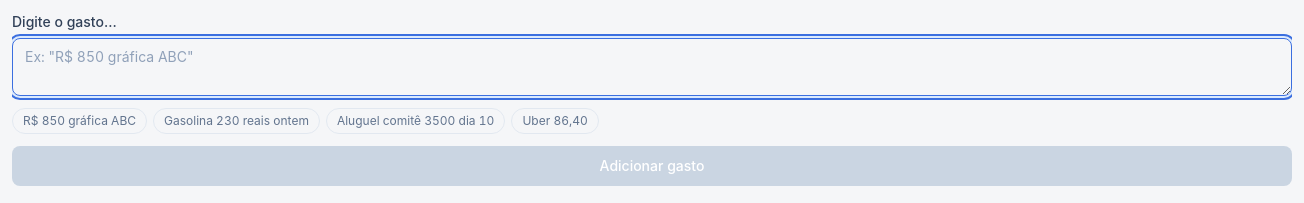
Scenario: QuickAddForm › clicking an example fills the input
Click the button "Uber 86,40". click: coordinates (555, 121)
box: x1=511 y1=108 x2=599 y2=134
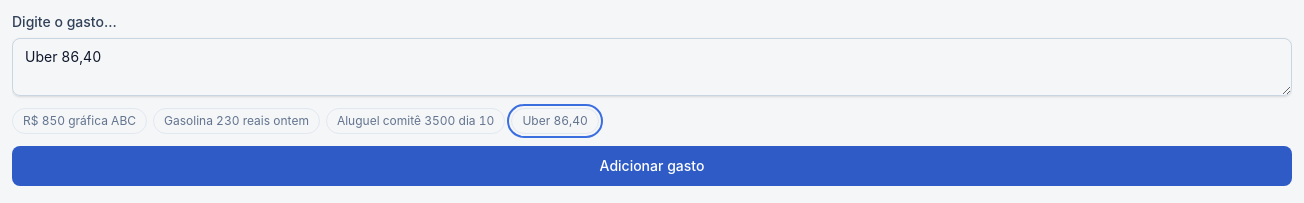
Expected: the text box labelled "Digite o gasto…" holds "Uber 86,40", x1=12 y1=38 x2=1292 y2=96
